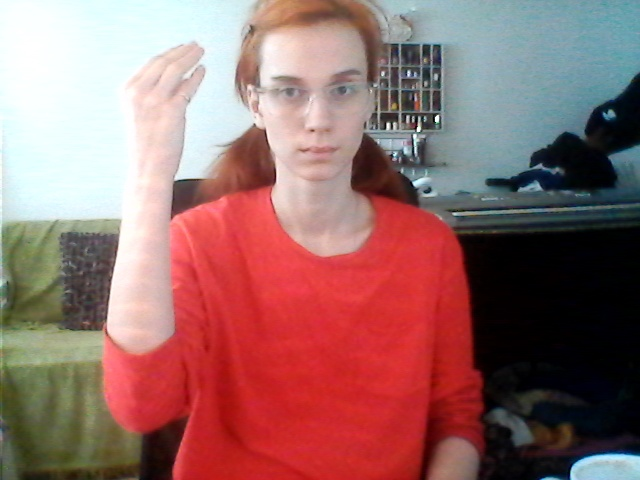domov: (99, 33, 274, 195)
